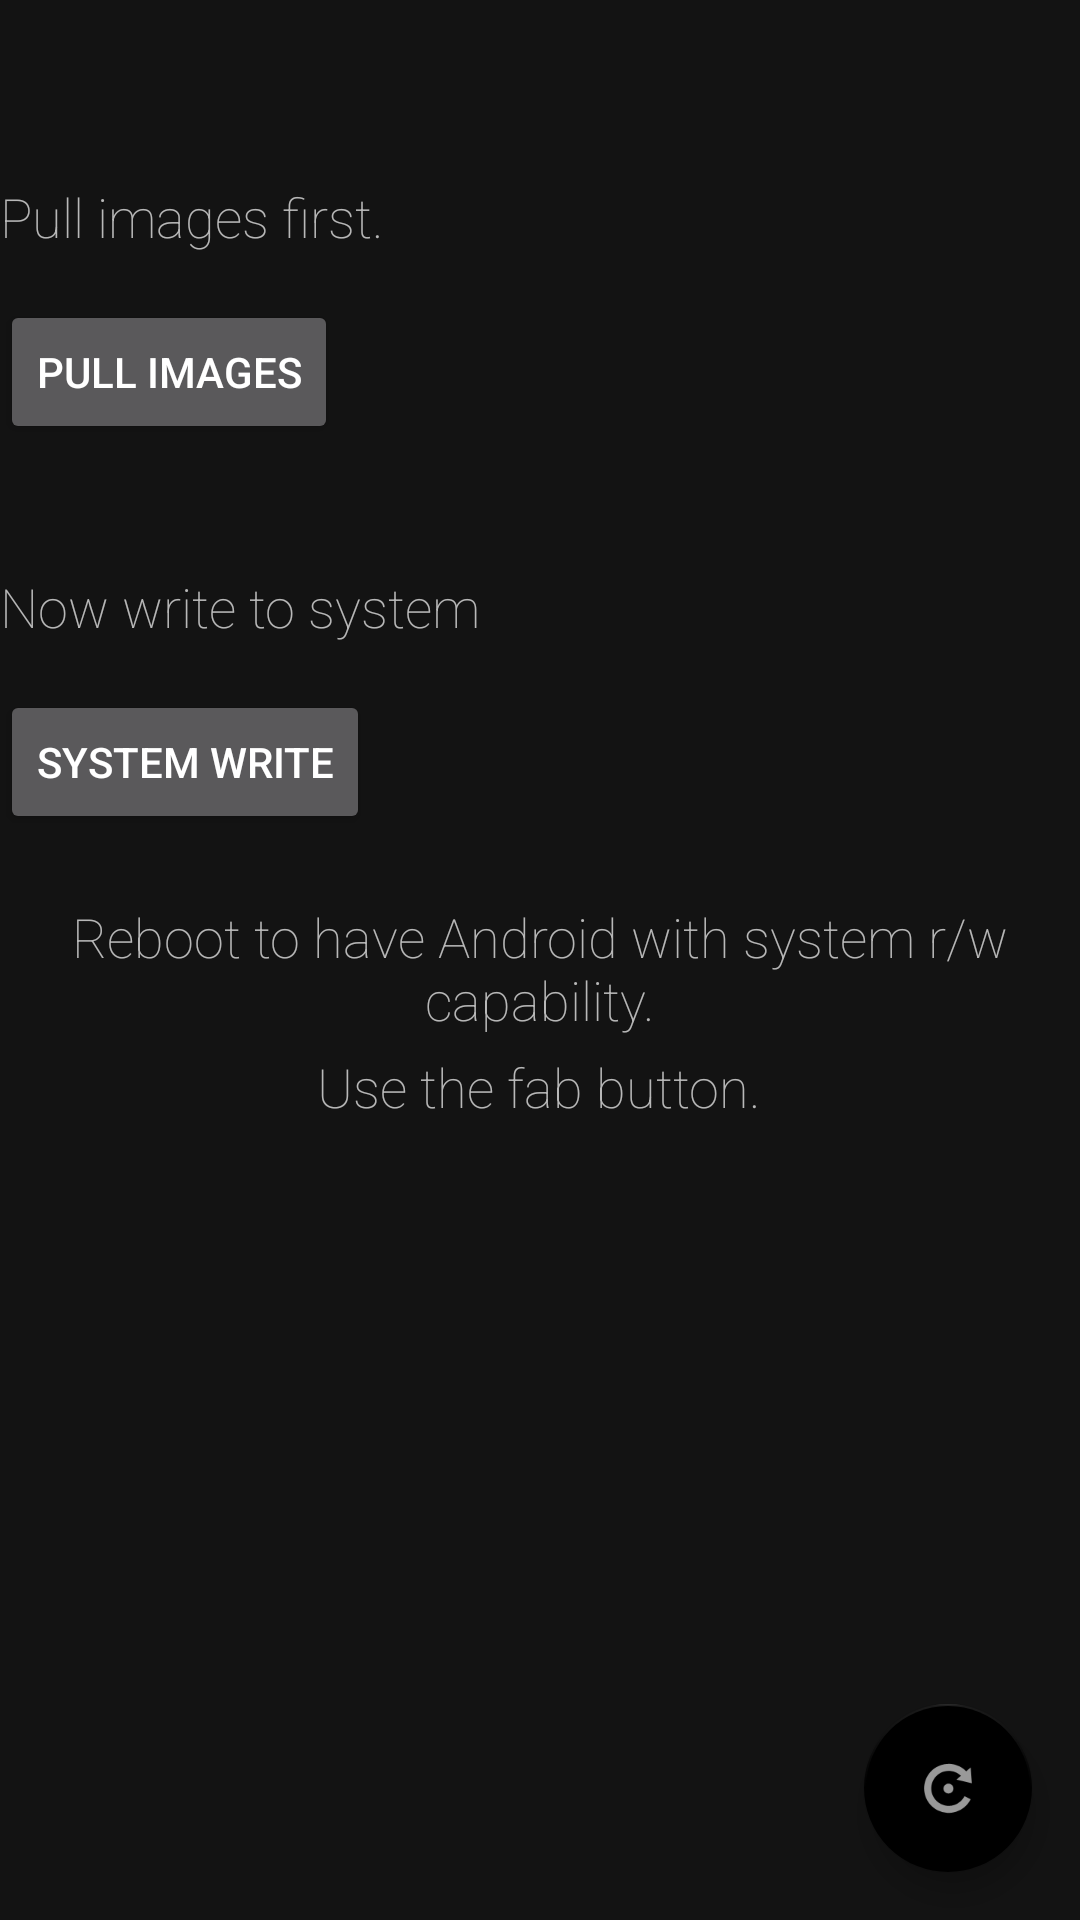

Named icons in this screenshot (1080×1920) and their bounding boxes, {"x1": x1, "y1": y1, "x2": x2, "y2": y2}:
rotate: {"x1": 864, "y1": 1704, "x2": 1032, "y2": 1872}
